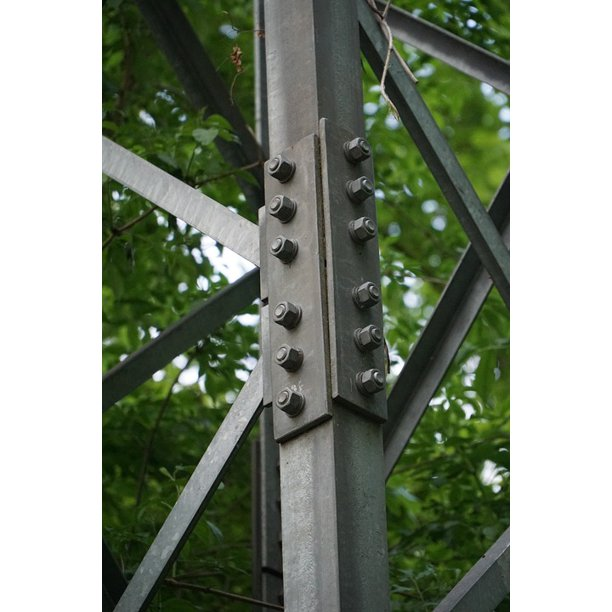bolt_b: (265, 153, 292, 181), (272, 342, 299, 370), (274, 386, 301, 414), (360, 365, 386, 394), (356, 280, 382, 308), (268, 194, 294, 221), (271, 301, 298, 327), (268, 234, 293, 262), (352, 213, 376, 241), (359, 322, 383, 350), (348, 134, 371, 161), (351, 174, 375, 199)
